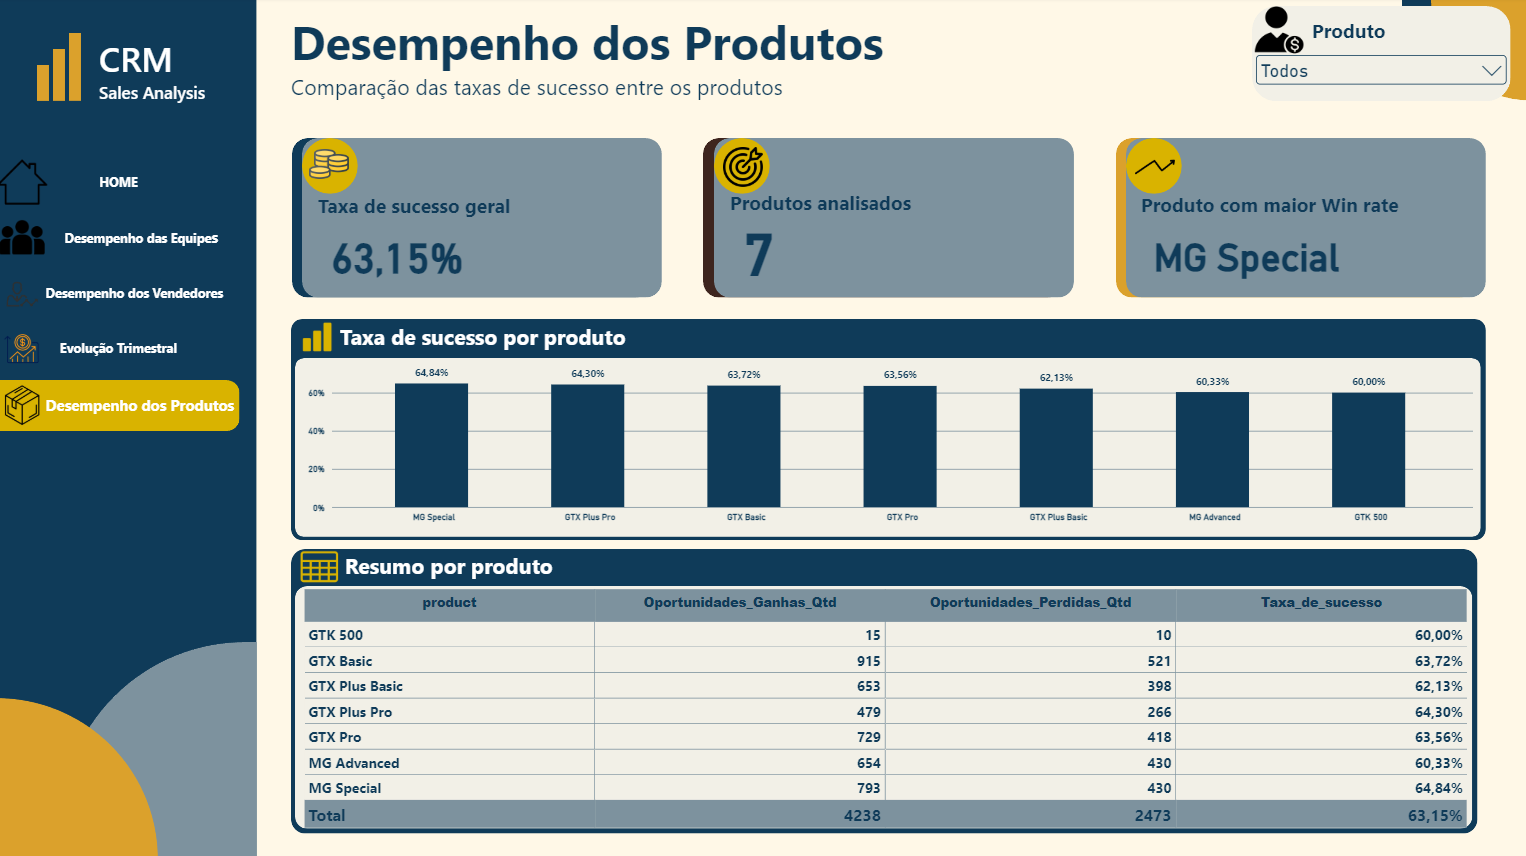

The dashboard page shown, as its layout file describes it:
{"tool":"powerbi","page":{"name":"Desempenho dos Produtos","canvas":[1920,1080],"ordinal":4},"visuals":[{"type":"shape","box":[0,0,325,1080],"z":0,"group":"g1"},{"type":"shape","title":"Fundo","box":[0,0,1920,1080],"z":0},{"type":"group","id":"g1","title":"obj menu","box":[0,0,325,1080],"z":0,"group":"g11"},{"type":"shape","box":[1760.9,0,159.1,98.7],"z":0,"group":"g4"},{"type":"shape","box":[1572.2,11.8,324.2,119.4],"z":0,"group":"g13"},{"type":"shape","box":[369.6,176.6,450.9,200],"z":0,"group":"g8"},{"type":"shape","box":[884.9,176.6,451.7,200],"z":0,"group":"g5"},{"type":"group","id":"g2","title":"Produto com maior win rate","box":[1402.1,177,463.2,200.2],"z":0,"group":"g9"},{"type":"shape","box":[1402.1,177.2,450.9,200],"z":0,"group":"g2"},{"type":"actionButton","box":[0,200,304,64],"z":0,"group":"g6"},{"type":"image","box":[0,269.7,63.4,63.4],"z":0,"group":"g10"},{"type":"textbox","box":[0,340.4,304.3,64],"z":0,"group":"g12"},{"type":"shape","box":[368,404,1497.1,277.1],"z":0,"group":"g3"},{"type":"group","id":"g3","title":"Taxa de sucesso por produto","box":[368,404,1497.1,277.1],"z":0,"group":"g15"},{"type":"actionButton","box":[0,410,304,64],"z":0,"group":"g14"},{"type":"actionButton","box":[0,480,304,64],"z":0,"group":"g16"},{"type":"shape","box":[368.3,693.1,1486.6,356.5],"z":0,"group":"g7"},{"type":"group","id":"g4","title":"Título & obg","box":[368.4,0,1551.6,176.9],"z":1000},{"type":"shape","box":[1796.2,0,123.8,129.7],"z":1000,"group":"g4"},{"type":"slicer","fields":{"Values":["crm_sales sales_pipeline.product"]},"box":[1572.2,67.8,324.2,61.9],"z":1000,"group":"g13"},{"type":"shape","box":[50,85,15,45],"z":1000,"group":"g1"},{"type":"shape","box":[381.6,176.6,450.9,200],"z":1000,"group":"g8"},{"type":"group","id":"g5","title":"Produtos analisados","box":[884.9,176.6,464.9,200],"z":1000,"group":"g9"},{"type":"shape","box":[898.2,176.6,451,200],"z":1000,"group":"g5"},{"type":"shape","box":[1414.4,177.2,450.9,200],"z":1000,"group":"g2"},{"type":"group","id":"g6","title":"Home","box":[0,200,304.3,64.6],"z":1000,"group":"g11"},{"type":"textbox","box":[0,200.6,304.3,64],"z":1000,"group":"g6"},{"type":"textbox","box":[0,270,304.3,64],"z":1000,"group":"g10"},{"type":"image","box":[0,340.4,63.4,63.4],"z":1000,"group":"g12"},{"type":"textbox","box":[0,410,304.3,64],"z":1000,"group":"g14"},{"type":"shape","box":[373,452.7,1485.6,224.3],"z":1000,"group":"g3"},{"type":"textbox","box":[0,480,304.3,64],"z":1000,"group":"g16"},{"type":"group","id":"g7","title":"Resumo por produto","box":[368.3,691.4,1489.9,373.9],"z":1000,"group":"g15"},{"type":"shape","box":[373.2,738.8,1475.2,304.2],"z":1000,"group":"g7"},{"type":"image","box":[1575.1,11.8,63.4,60.4],"z":2000,"group":"g13"},{"type":"textbox","box":[368.4,16.2,1146.4,160.6],"z":2000,"group":"g4"},{"type":"shape","box":[70,65,15,65],"z":2000,"group":"g1"},{"type":"group","id":"g8","title":"Taxa de sucesso","box":[369.6,176.6,463.1,200.8],"z":2000,"group":"g9"},{"type":"group","id":"g9","title":"Cartões","box":[369.6,176.6,1496.4,201.2],"z":2000},{"type":"shape","box":[381.8,177,70,70],"z":2000,"group":"g8"},{"type":"shape","box":[898.9,177,70,70],"z":2000,"group":"g5"},{"type":"shape","box":[1414.7,177,70,70],"z":2000,"group":"g2"},{"type":"image","box":[0,200.4,63.4,63.4],"z":2000,"group":"g6"},{"type":"group","id":"g10","title":"Desempenho das equipes","box":[0,269.7,304.3,64.3],"z":2000,"group":"g11"},{"type":"actionButton","box":[0,270,304,64],"z":2000,"group":"g10"},{"type":"actionButton","box":[0,340.2,304,64],"z":2000,"group":"g12"},{"type":"textbox","box":[429.4,407.6,1211.4,61.4],"z":2000,"group":"g3"},{"type":"image","box":[0,409.6,63.4,63.4],"z":2000,"group":"g14"},{"type":"image","box":[0,480.4,63.4,63.4],"z":2000,"group":"g16"},{"type":"image","box":[373.2,691.4,60.5,47.4],"z":2000,"group":"g7"},{"type":"group","id":"g11","title":"Menu","box":[0,0,325.9,1080],"z":3000},{"type":"textbox","box":[1647.3,25.1,253.4,60.4],"z":3000,"group":"g13"},{"type":"shape","box":[90,45,15,85],"z":3000,"group":"g1"},{"type":"image","box":[391.4,184.5,50,50],"z":3000,"group":"g8"},{"type":"image","box":[909.6,187.8,50,50],"z":3000,"group":"g5"},{"type":"image","box":[1426.2,187.8,50.4,50.4],"z":3000,"group":"g2"},{"type":"actionButton","box":[0,200,304,64],"z":3000,"group":"g6"},{"type":"group","id":"g12","title":"Desempenho dos vendedores","box":[0,340.2,304.3,64.2],"z":3000,"group":"g11"},{"type":"image","box":[379.2,404.2,42.9,44.3],"z":3000,"group":"g3"},{"type":"actionButton","box":[0,410,304,64],"z":3000,"group":"g14"},{"type":"textbox","box":[435.4,695.7,1196.7,60],"z":3000,"group":"g7"},{"type":"group","id":"g13","title":"Filtro","box":[1572.2,11.8,328.6,119.4],"z":4000},{"type":"textbox","box":[128,48,160,96],"z":4000,"group":"g1"},{"type":"cardVisual","title":"Produtos analisados","fields":{"Data":["crm_sales sales_pipeline.Qtd_Produtos"]},"box":[898.9,240.4,450.9,132.6],"z":4000,"group":"g5"},{"type":"cardVisual","title":"Produto com maior Win rate","fields":{"Data":["crm_sales sales_pipeline.Produto Maior Win Rate"]},"box":[1413.2,243,450.9,132.6],"z":4000,"group":"g2"},{"type":"cardVisual","title":"Taxa de sucesso geral","fields":{"Data":["crm_sales sales_pipeline.Taxa_de_sucesso"]},"box":[381.8,244.8,450.9,132.6],"z":4000,"group":"g8"},{"type":"group","id":"g14","title":"Evolução Trimestral","box":[0,409.6,304.3,64.4],"z":4000,"group":"g11"},{"type":"columnChart","fields":{"Category":["crm_sales sales_pipeline.product"],"Y":["crm_sales sales_pipeline.Taxa_de_sucesso"]},"box":[373,438.4,1491.5,238.8],"z":4000,"group":"g3"},{"type":"tableEx","fields":{"Values":["crm_sales sales_pipeline.product","crm_sales sales_pipeline.Oportunidades_Ganhas_Qtd","crm_sales sales_pipeline.Oportunidades_Perdidas_Qtd","crm_sales sales_pipeline.Taxa_de_sucesso"]},"box":[368.3,728.4,1489.9,336.9],"z":4000,"group":"g7"},{"type":"group","id":"g15","title":"Gráfico & Tabela","box":[368,404,1497.1,661.3],"z":5000},{"type":"group","id":"g16","title":"Desempenho dos produtos","box":[0,480,304.3,64],"z":5000,"group":"g11"},{"type":"shape","box":[78.3,808.3,246.7,271.7],"z":5000,"group":"g1"},{"type":"shape","box":[0,878.3,201.7,201.7],"z":6000,"group":"g1"}]}

Visuals, with their boxes in screenshot pixels (x1, y1, x2, y2), scaled from the page's 1920x1080 canvas onto the 1526x856 screenshot:
shape: box(0, 0, 258, 855)
"Fundo" shape: box(0, 0, 1525, 855)
"obj menu" group: box(0, 0, 258, 855)
shape: box(1400, 0, 1525, 78)
shape: box(1250, 9, 1507, 104)
shape: box(294, 140, 652, 298)
shape: box(703, 140, 1062, 298)
"Produto com maior win rate" group: box(1114, 140, 1483, 299)
shape: box(1114, 140, 1473, 299)
actionButton: box(0, 159, 242, 209)
image: box(0, 214, 50, 264)
textbox: box(0, 270, 242, 321)
shape: box(292, 320, 1482, 540)
"Taxa de sucesso por produto" group: box(292, 320, 1482, 540)
actionButton: box(0, 325, 242, 376)
actionButton: box(0, 380, 242, 431)
shape: box(293, 549, 1474, 832)
"Título & obg" group: box(293, 0, 1525, 140)
shape: box(1428, 0, 1525, 103)
slicer - crm_sales sales_pipeline.product: box(1250, 54, 1507, 103)
shape: box(40, 67, 52, 103)
shape: box(303, 140, 662, 298)
"Produtos analisados" group: box(703, 140, 1073, 298)
shape: box(714, 140, 1072, 298)
shape: box(1124, 140, 1483, 299)
"Home" group: box(0, 159, 242, 210)
textbox: box(0, 159, 242, 210)
textbox: box(0, 214, 242, 265)
image: box(0, 270, 50, 320)
textbox: box(0, 325, 242, 376)
shape: box(296, 359, 1477, 537)
textbox: box(0, 380, 242, 431)
"Resumo por produto" group: box(293, 548, 1477, 844)
shape: box(297, 586, 1469, 827)
image: box(1252, 9, 1302, 57)
textbox: box(293, 13, 1204, 140)
shape: box(56, 52, 68, 103)
"Taxa de sucesso" group: box(294, 140, 662, 299)
"Cartões" group: box(294, 140, 1483, 299)
shape: box(303, 140, 359, 196)
shape: box(714, 140, 770, 196)
shape: box(1124, 140, 1180, 196)
image: box(0, 159, 50, 209)
"Desempenho das equipes" group: box(0, 214, 242, 265)
actionButton: box(0, 214, 242, 265)
actionButton: box(0, 270, 242, 320)
textbox: box(341, 323, 1304, 372)
image: box(0, 325, 50, 375)
image: box(0, 381, 50, 431)
image: box(297, 548, 345, 586)
"Menu" group: box(0, 0, 259, 855)
textbox: box(1309, 20, 1511, 68)
shape: box(72, 36, 83, 103)
image: box(311, 146, 351, 186)
image: box(723, 149, 763, 188)
image: box(1134, 149, 1174, 189)
actionButton: box(0, 159, 242, 209)
"Desempenho dos vendedores" group: box(0, 270, 242, 321)
image: box(301, 320, 335, 355)
actionButton: box(0, 325, 242, 376)
textbox: box(346, 551, 1297, 599)
"Filtro" group: box(1250, 9, 1511, 104)
textbox: box(102, 38, 229, 114)
"Produtos analisados" cardVisual: box(714, 191, 1073, 296)
"Produto com maior Win rate" cardVisual: box(1123, 193, 1482, 298)
"Taxa de sucesso geral" cardVisual: box(303, 194, 662, 299)
"Evolução Trimestral" group: box(0, 325, 242, 376)
columnChart - crm_sales sales_pipeline.product x crm_sales sales_pipeline.Taxa_de_sucesso: box(296, 347, 1482, 537)
tableEx - crm_sales sales_pipeline.product x crm_sales sales_pipeline.Oportunidades_Ganhas_Qtd: box(293, 577, 1477, 844)
"Gráfico & Tabela" group: box(292, 320, 1482, 844)
"Desempenho dos produtos" group: box(0, 380, 242, 431)
shape: box(62, 641, 258, 855)
shape: box(0, 696, 160, 855)
